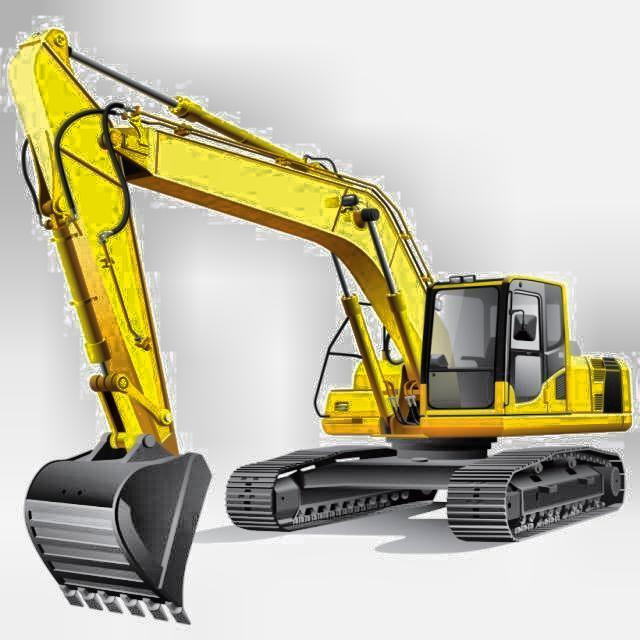excavator: (6, 29, 630, 631)
